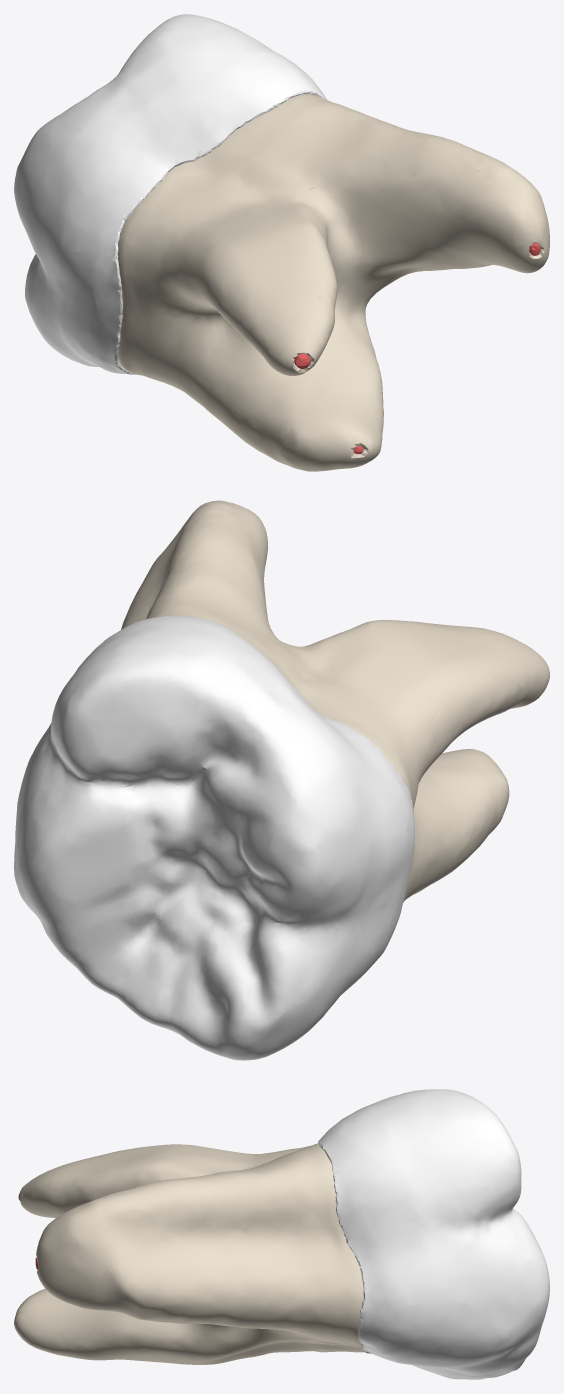
The model's file is 恒牙上颌第一磨牙.fbx.
3 views of the same model, one above another, from view 1: azimuth 30°, elevation 25°; view 2: azimuth 150°, elevation 25°; view 3: azimuth 270°, elevation 25° (orthographic). The views are drawn at different scales.
Visible parts, largest first — view 1: texture_B, texture_W; view 2: texture_W, texture_B; view 3: texture_B, texture_W.
Part boxes in pixels (x1,y1,x2,y2): texture_B: [117, 94, 549, 471]; texture_W: [14, 14, 326, 374]; texture_W: [14, 615, 414, 1060]; texture_B: [121, 500, 549, 902]; texture_B: [14, 1143, 367, 1364]; texture_W: [318, 1089, 549, 1379].
Size of the model in its own units: 19.56 by 17.09 by 27.18.
Materials: 3 (3 with a texture image).
